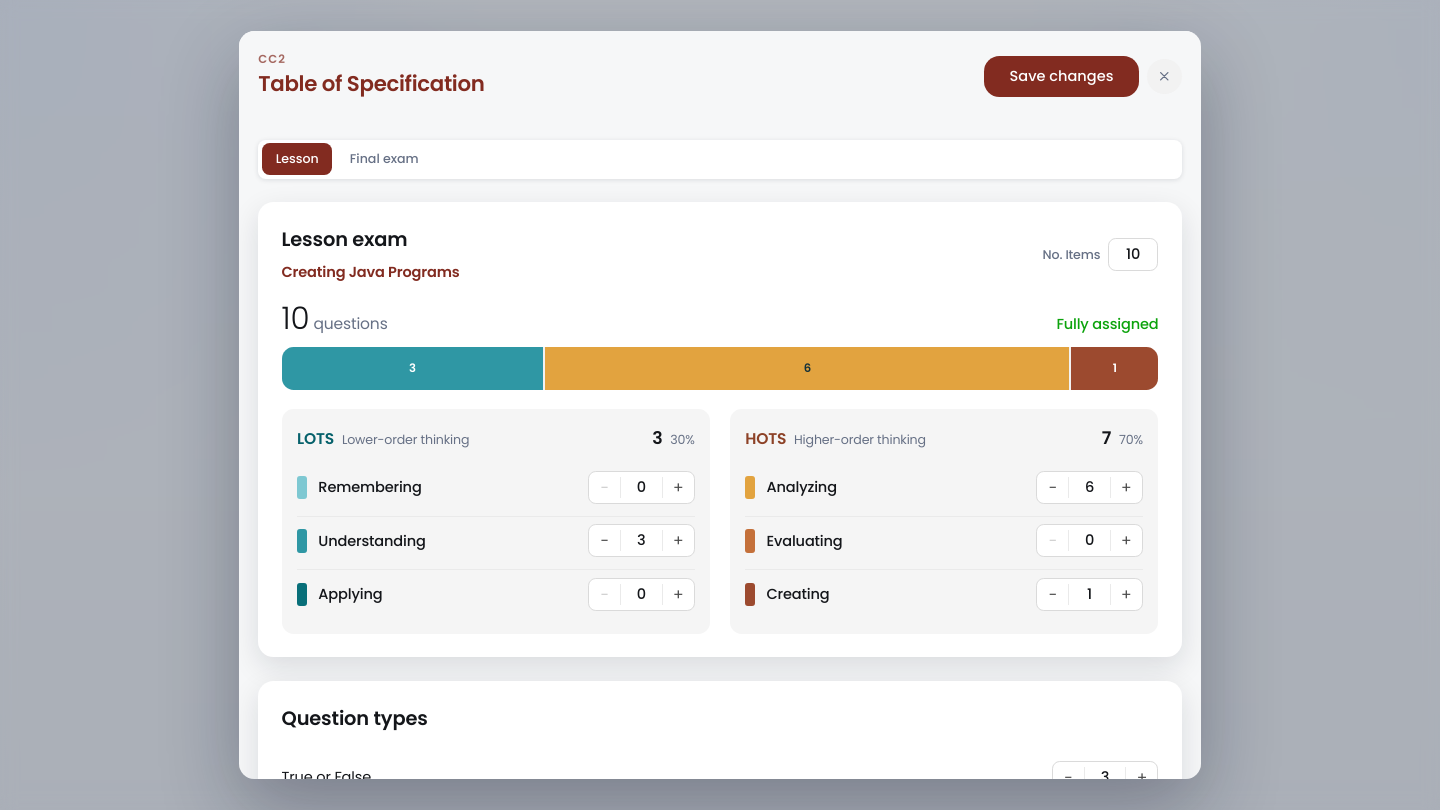
Test: Closing with unsaved edits › asks first, and Keep editing keeps the edit
Replace the text in the field named "Analyzing" with "5": (1090, 488) [1068,477,1111,498]
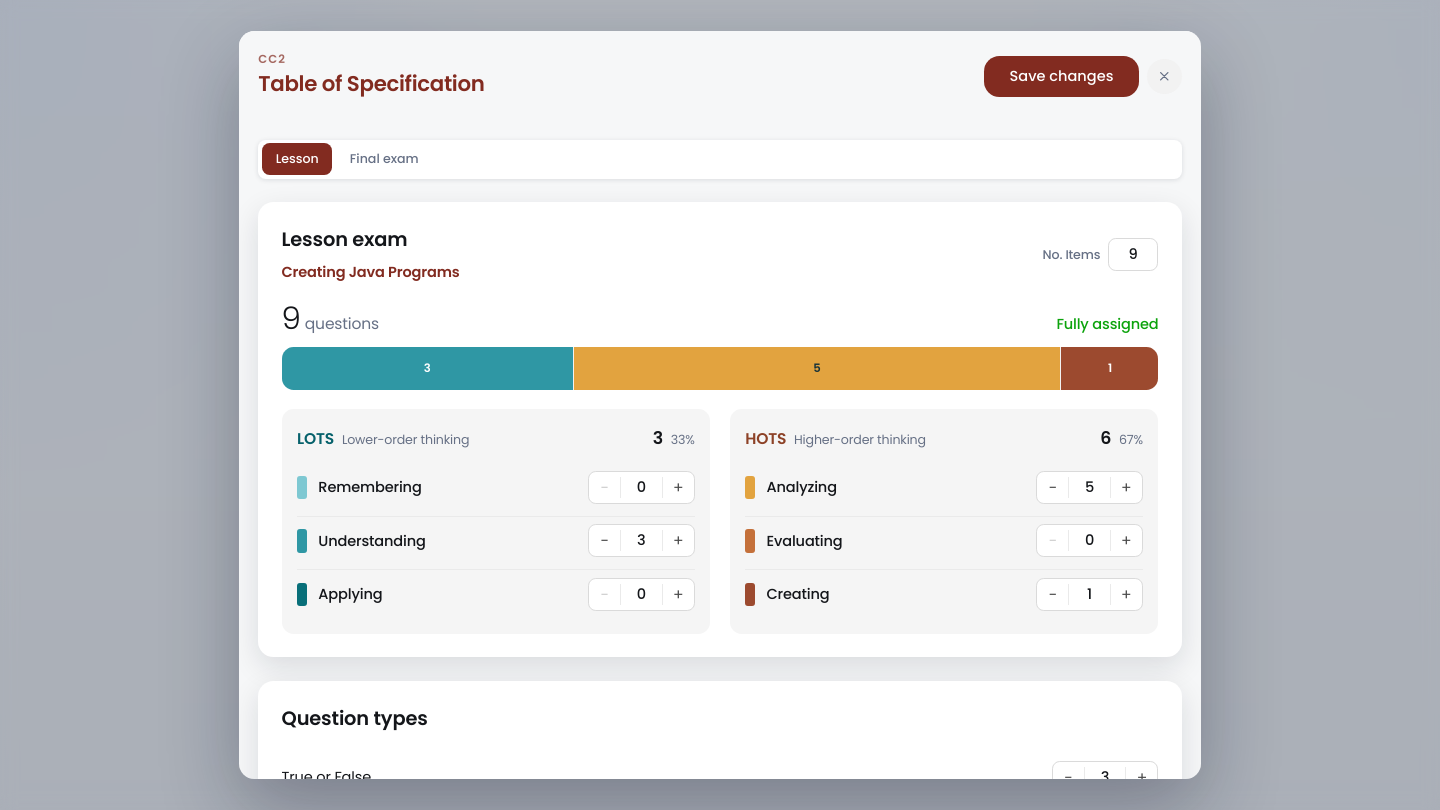
Click the button named "Close the blueprint": (1164, 76) [1147,59,1182,94]
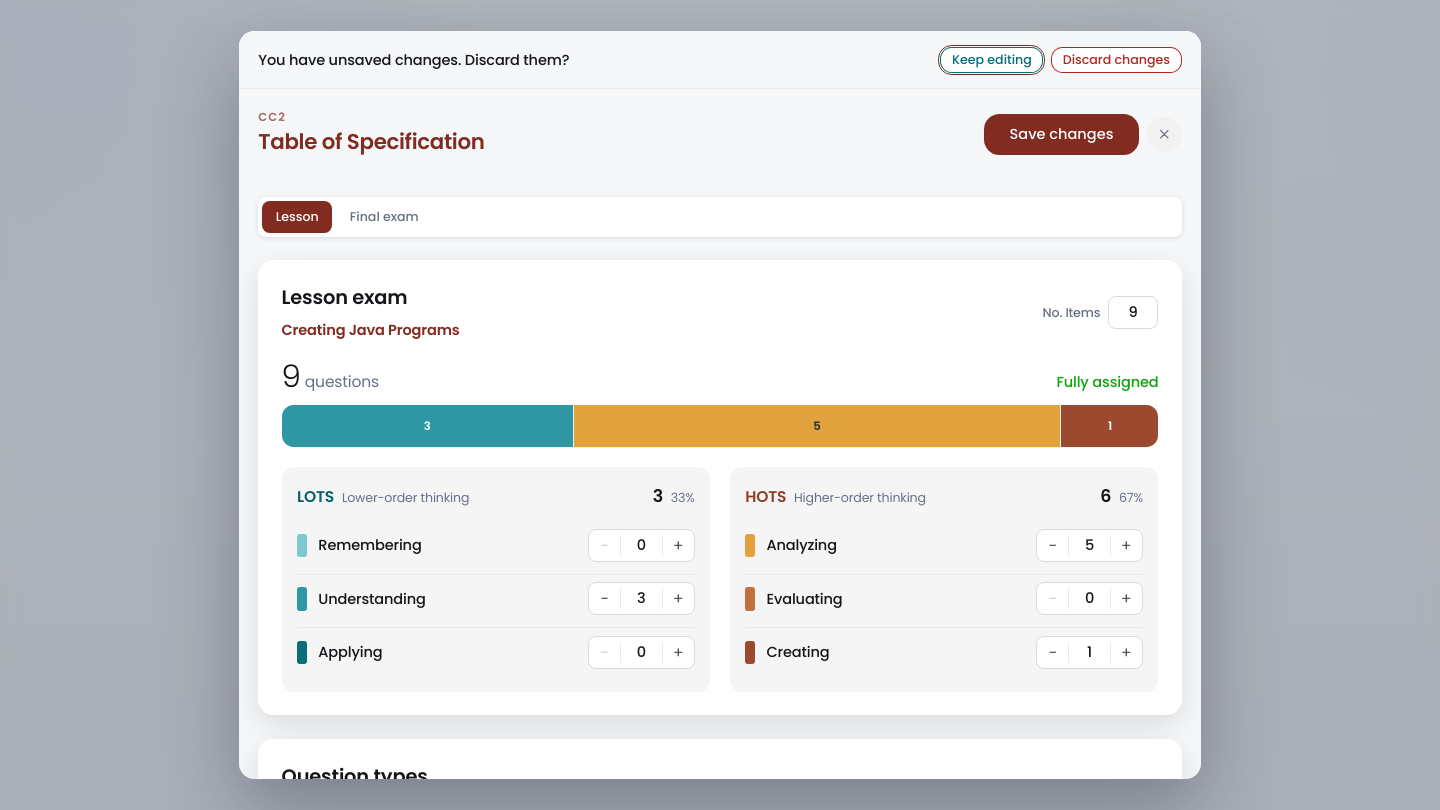
Check: the text "You have unsaved changes. Discard them?" is shown, box [258,49,569,71]
Click the button "Keep editing": (992, 60) [940,46,1043,73]
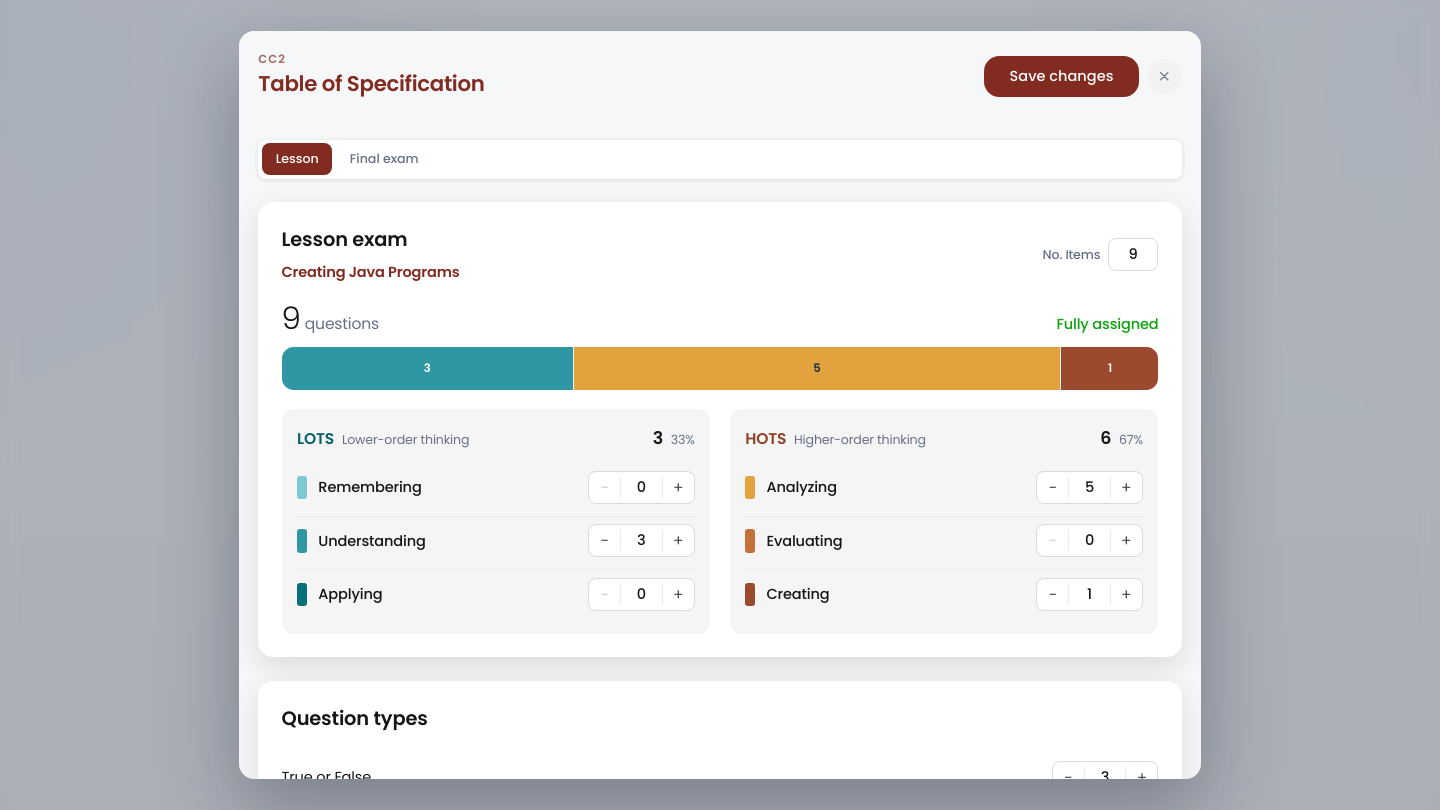
Check: the text "You have unsaved changes. Discard them?" is gone
